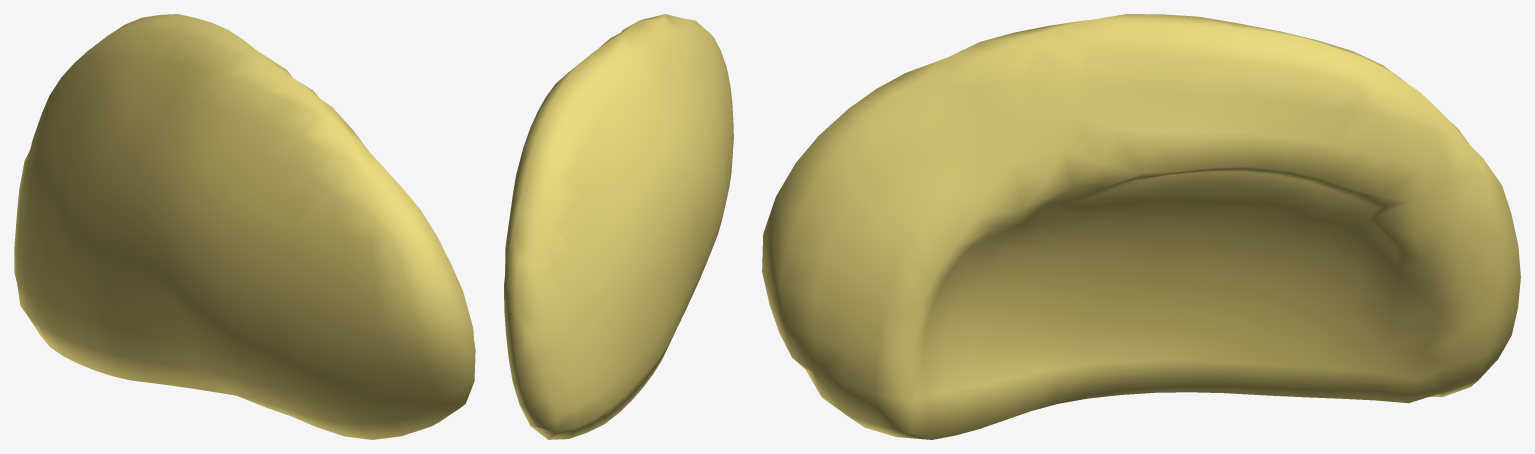
Rendered from putamen-r.glb.
3 views of the same model, side by side, from view 1: azimuth 30°, elevation 25°; view 2: azimuth 150°, elevation 25°; view 3: azimuth 270°, elevation 25° (orthographic). The views are drawn at different scales.
Visible parts, largest first — view 1: Putamen.r; view 2: Putamen.r; view 3: Putamen.r.
Boxes of the visible parts, <box> form: Putamen.r: <box>14,14,475,439</box>; Putamen.r: <box>504,14,733,439</box>; Putamen.r: <box>762,14,1520,439</box>.
Size of the model in its own units: 0.0177 by 0.0252 by 0.0416.
